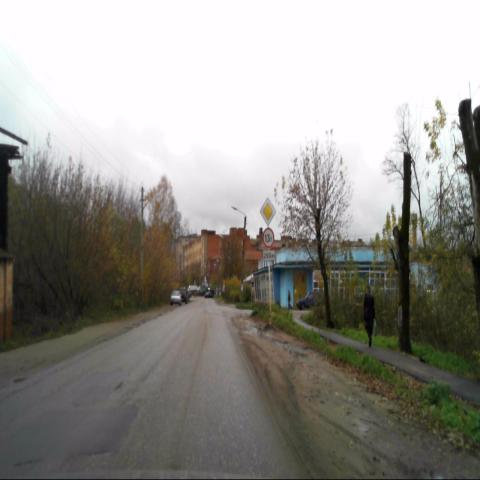3_11: (263, 227, 274, 249)
